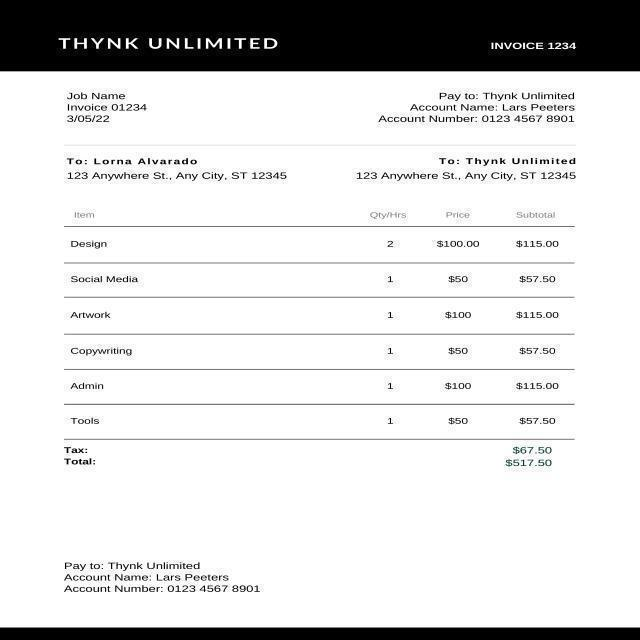paragraph: (36, 444, 578, 476), (372, 82, 600, 128), (63, 555, 276, 597), (59, 154, 304, 188), (352, 158, 592, 188), (55, 28, 289, 58), (59, 88, 168, 132), (483, 34, 589, 61)
table: (49, 203, 589, 441)
